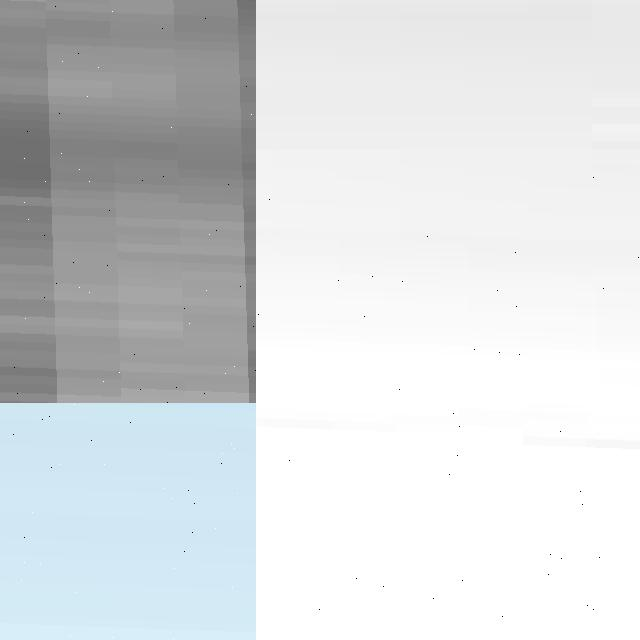street light: (0, 0, 256, 403), (256, 149, 640, 403), (256, 403, 640, 640), (0, 403, 256, 640)
